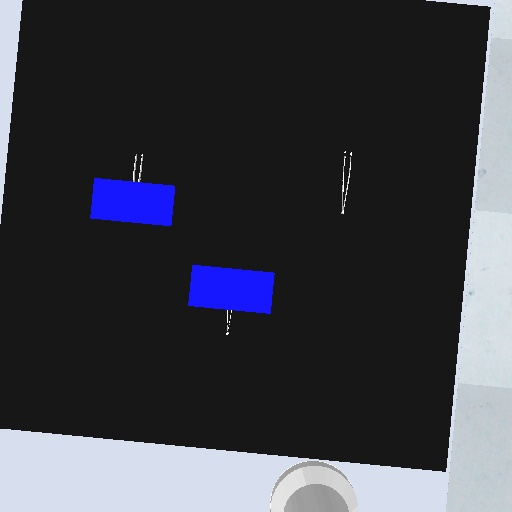pinza: (338, 147, 355, 216), (131, 151, 147, 184), (224, 307, 234, 338)
